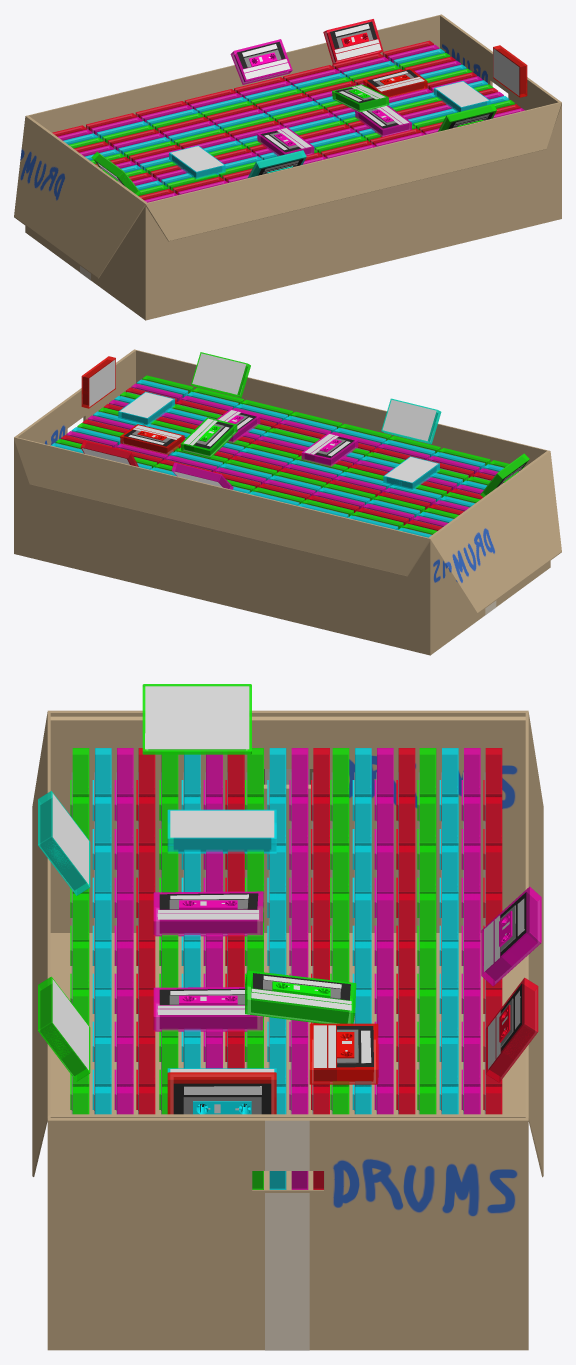
The picture shows the model from 3 angles, top to bottom: view 1: azimuth 30°, elevation 25°; view 2: azimuth 150°, elevation 25°; view 3: azimuth 270°, elevation 25°; orthographic projection. The views are drawn at different scales.
Parts seen in each view (by area): view 1: Caja, Piso De Cassets, Cassete.004, Cassete.002, Cassete.010, Cassete.003, Cassete.011, Cassete.007, Cassete.005, Cassete, Cassete.008, Cassete.009 (+2 smaller); view 2: Caja, Piso De Cassets, Cassete.006, Cassete.009, Cassete.008, Cassete.010, Cassete.011, Cassete, Cassete.005, Cassete.003, Cassete.004, Cassete.002 (+2 smaller); view 3: Caja, Piso De Cassets, Scotch, Cassete.001, Cassete.003, Cassete, Cassete.008, Cassete.010, Cassete.007, Cassete.011, Cassete.004, Cassete.002 (+2 smaller).
Boxes of the visible parts, <box> form: Caja: <box>14,14,561,320</box>; Piso De Cassets: <box>52,40,524,202</box>; Cassete.004: <box>230,39,292,84</box>; Cassete.002: <box>323,19,383,64</box>; Cassete.010: <box>493,45,527,97</box>; Cassete.003: <box>169,145,225,179</box>; Cassete.011: <box>363,68,427,97</box>; Cassete.007: <box>355,105,411,136</box>; Cassete.005: <box>434,81,490,112</box>; Cassete: <box>257,127,314,156</box>; Cassete.008: <box>332,84,389,112</box>; Cassete.009: <box>438,103,496,131</box>; Caja: <box>14,349,561,655</box>; Piso De Cassets: <box>51,375,523,537</box>; Cassete.006: <box>381,398,441,444</box>; Cassete.009: <box>191,352,250,397</box>; Cassete.008: <box>180,417,237,457</box>; Cassete.010: <box>81,356,115,408</box>; Cassete.011: <box>120,424,184,455</box>; Cassete: <box>301,433,358,466</box>; Cassete.005: <box>118,391,174,425</box>; Cassete.003: <box>383,456,439,490</box>; Cassete.004: <box>171,462,233,489</box>; Cassete.002: <box>80,440,138,466</box>; Caja: <box>32,710,543,1350</box>; Piso De Cassets: <box>70,748,502,1189</box>; Scotch: <box>265,769,309,1350</box>; Cassete.001: <box>142,684,251,754</box>; Cassete.003: <box>167,809,276,853</box>; Cassete: <box>153,891,263,936</box>; Cassete.008: <box>245,970,356,1023</box>; Cassete.010: <box>167,1072,276,1114</box>; Cassete.007: <box>153,987,263,1031</box>; Cassete.011: <box>309,1023,378,1084</box>; Cassete.004: <box>481,886,541,986</box>; Cassete.002: <box>485,977,538,1082</box>.
Bounding box in the file's own units: 337 × 96.08 × 167.
862 materials, 1 textured.
